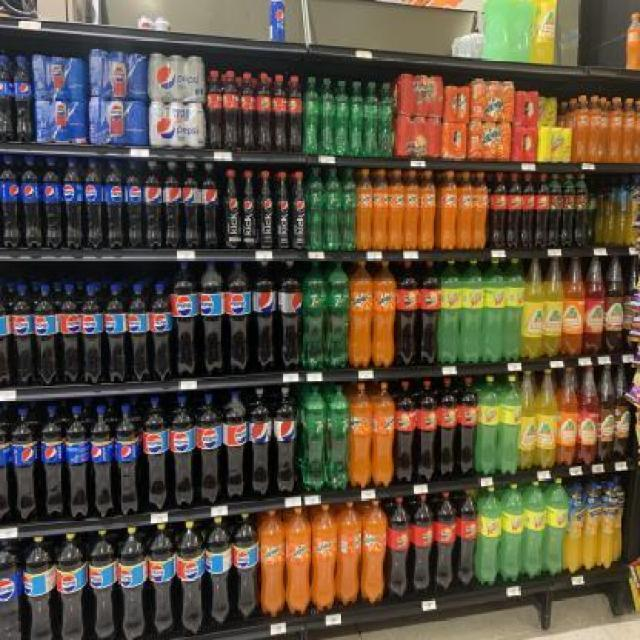Drinks: (147, 523, 178, 640), (56, 533, 90, 639), (116, 527, 147, 639), (89, 529, 120, 640), (177, 519, 206, 635), (11, 406, 40, 522), (198, 259, 226, 377), (171, 260, 199, 378), (225, 259, 253, 376), (23, 536, 55, 638), (205, 515, 234, 626), (169, 396, 197, 510), (142, 396, 170, 510), (232, 512, 260, 623), (197, 393, 223, 507), (252, 259, 278, 373), (89, 97, 149, 146), (89, 49, 149, 98), (273, 387, 299, 498), (248, 387, 274, 498), (223, 391, 249, 502), (33, 285, 61, 387), (148, 53, 206, 102), (40, 405, 64, 521), (148, 100, 206, 148), (90, 404, 114, 518), (65, 405, 89, 519), (32, 54, 89, 102), (278, 259, 302, 371), (115, 405, 139, 516), (325, 259, 349, 370), (302, 260, 326, 371), (325, 383, 349, 492), (302, 383, 326, 492), (0, 539, 26, 639), (11, 283, 35, 386), (34, 99, 90, 143), (80, 283, 103, 385), (150, 283, 173, 381), (127, 284, 150, 382), (104, 285, 127, 383), (60, 284, 82, 386), (42, 155, 64, 249), (21, 154, 43, 248), (63, 156, 85, 248), (1, 154, 21, 248), (125, 157, 145, 249), (105, 157, 125, 249), (85, 156, 105, 248), (13, 56, 33, 142), (163, 160, 181, 249), (145, 160, 163, 249), (182, 161, 200, 249), (201, 163, 219, 249), (306, 166, 324, 249), (0, 55, 17, 141), (325, 168, 342, 251), (341, 168, 357, 251), (303, 76, 320, 154), (319, 78, 335, 156), (335, 79, 351, 156), (378, 83, 394, 159), (349, 81, 365, 157), (364, 83, 380, 157), (269, 1, 285, 41)
